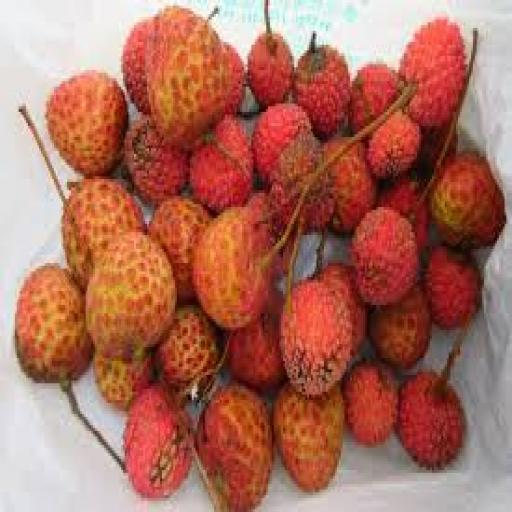lychee: (146, 6, 230, 148), (86, 233, 176, 360), (196, 384, 273, 511), (194, 205, 271, 330), (62, 177, 145, 288), (15, 266, 93, 383), (47, 70, 128, 176), (282, 280, 353, 397), (123, 387, 193, 498), (274, 384, 344, 492), (401, 20, 465, 128), (431, 154, 506, 246), (397, 373, 465, 470), (149, 196, 210, 302), (351, 208, 418, 304), (190, 115, 253, 212), (228, 291, 286, 391), (295, 34, 350, 137), (125, 118, 188, 204), (157, 305, 219, 391), (270, 132, 322, 232), (248, 0, 294, 109), (371, 286, 431, 369), (425, 247, 482, 330), (343, 361, 398, 447), (252, 104, 310, 184), (319, 263, 366, 355), (330, 143, 376, 232), (378, 177, 430, 251), (367, 112, 420, 179), (351, 65, 400, 134), (94, 353, 152, 411), (122, 20, 152, 114), (224, 42, 245, 114)
